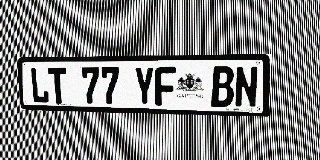7: (80, 67, 101, 105), (100, 67, 120, 105)
B: (211, 66, 234, 107)
F: (155, 67, 176, 106)
L: (30, 67, 49, 103)
N: (234, 66, 258, 108)
T: (48, 67, 68, 104)
Y: (134, 67, 155, 106)
